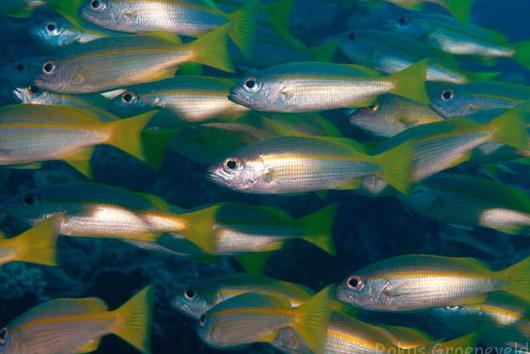Lutjanidae -Snappers-: (0, 181, 229, 261), (206, 126, 426, 201), (23, 23, 247, 96), (224, 50, 435, 115), (0, 274, 164, 354), (334, 249, 530, 313), (77, 0, 268, 60), (183, 285, 341, 354), (0, 100, 156, 168)
